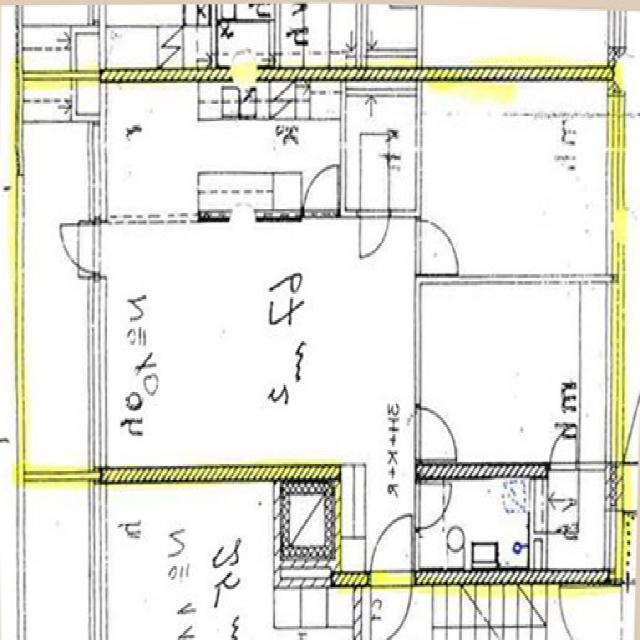door: (371, 514, 411, 585), (371, 571, 411, 640), (415, 220, 459, 273), (415, 407, 458, 459), (64, 224, 108, 273), (304, 162, 338, 216), (415, 483, 453, 527), (361, 210, 388, 256), (550, 429, 576, 472)
